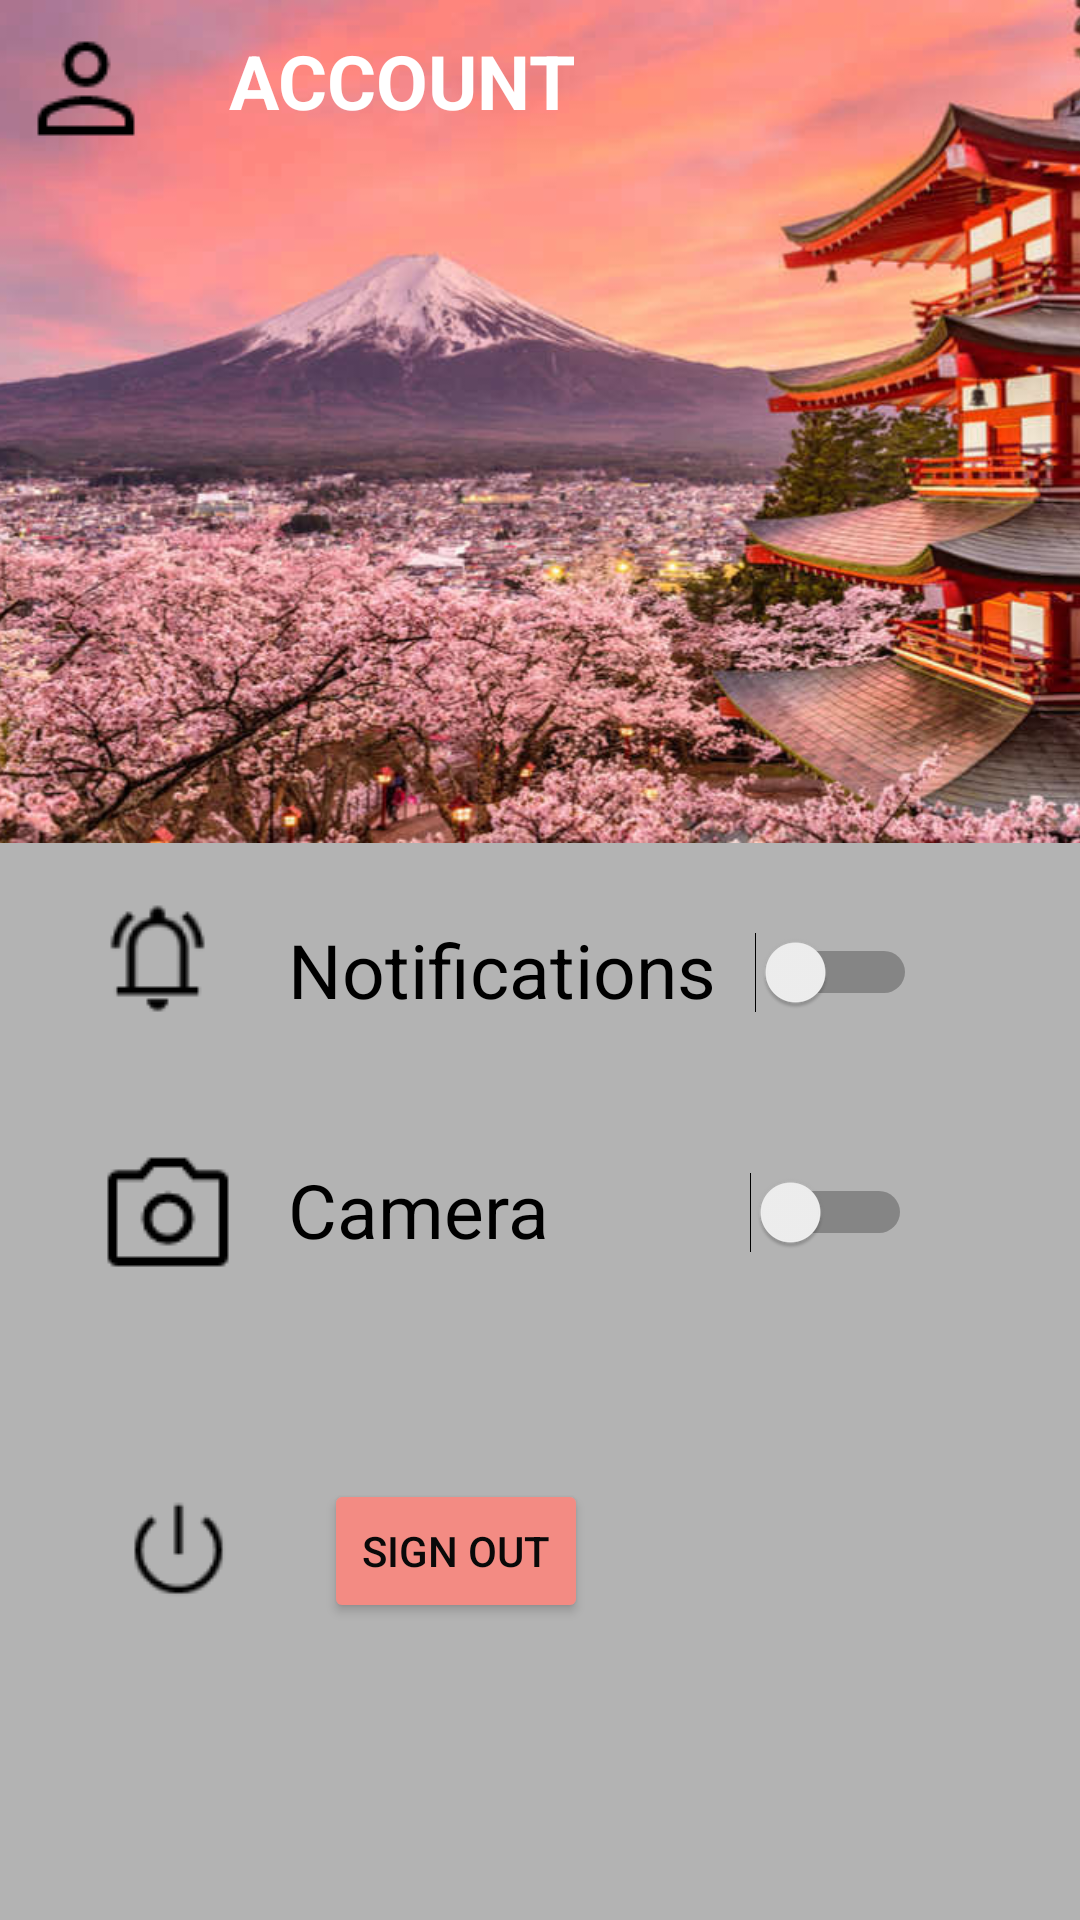

Named icons in this screenshot (1080x1920) and their bounding boxes, bbox=(x1, y1, x2, y2):
power: bbox=(134, 1503, 223, 1594)
